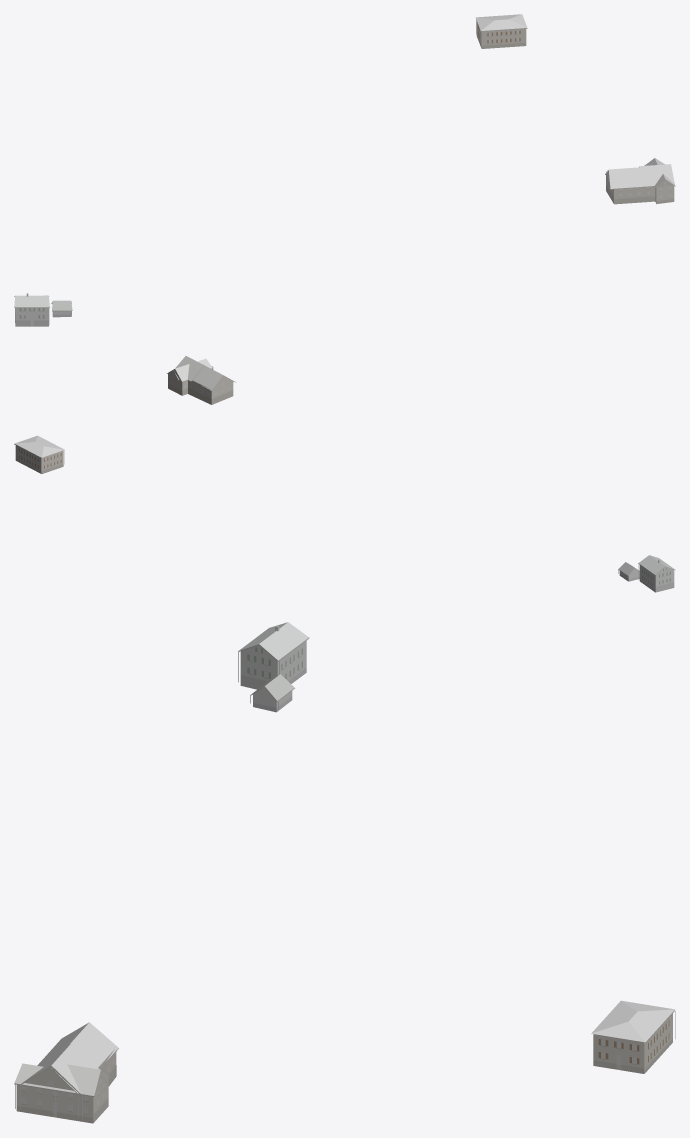
The picture shows the model from 3 angles, top to bottom: view 1: azimuth 30°, elevation 25°; view 2: azimuth 150°, elevation 25°; view 3: azimuth 270°, elevation 25°; orthographic projection. The views are drawn at different scales.
Parts seen in each view (by area): view 1: bld; view 2: bld; view 3: bld.
Boxes of the visible parts, x1,y1,x2,y2 form: bld: (14,14,675,326); bld: (14,356,675,592); bld: (14,622,675,1123).
Bounding box in the file's own units: 242 × 33.12 × 127.
